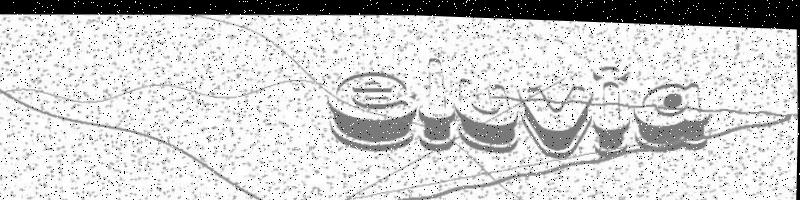a: (629, 69, 719, 168)
e: (320, 55, 421, 155)
i: (590, 59, 639, 158)
l: (412, 47, 464, 163)
u: (452, 67, 524, 152)
v: (514, 74, 598, 159)
